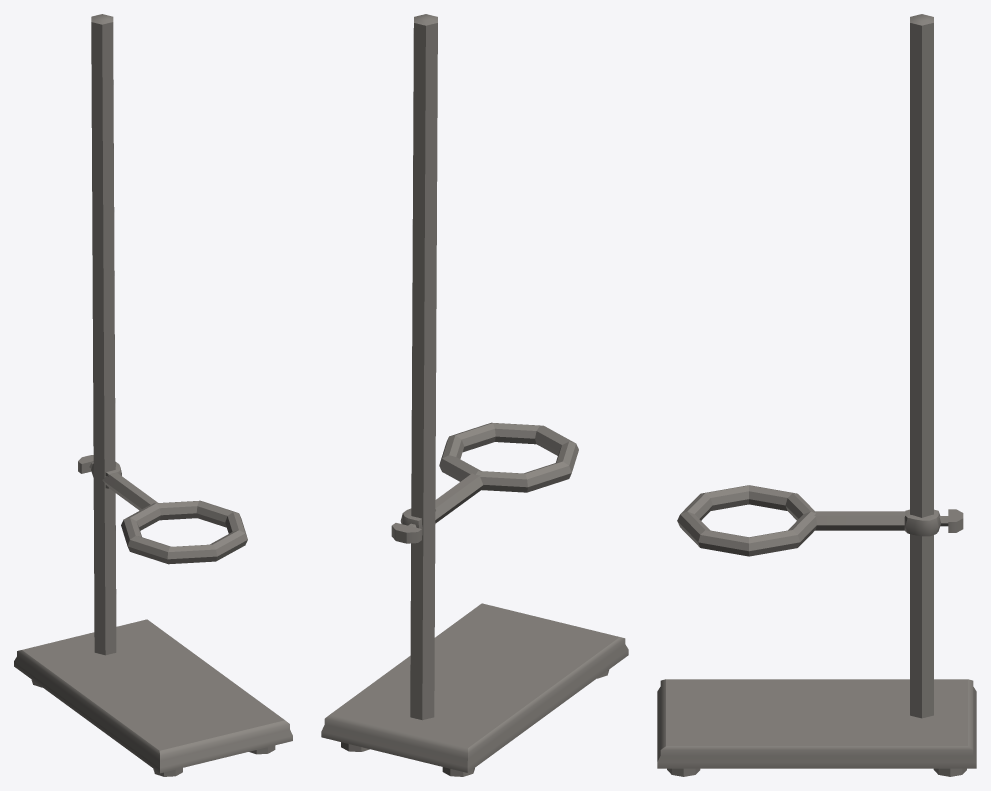
Rendered from ringStand.glb.
3 renders of one model, left to right at view 1: azimuth 30°, elevation 25°; view 2: azimuth 150°, elevation 25°; view 3: azimuth 270°, elevation 25°, orthographic. The views are drawn at different scales.
Visible parts, largest first — view 1: ringStand pCube7, ringStand pCylinder21, ringStand pTorus1, ringStand pCylinder22; view 2: ringStand pCube7, ringStand pCylinder21, ringStand pTorus1, ringStand pCylinder22, ringStand pCube8; view 3: ringStand pCube7, ringStand pCylinder21, ringStand pTorus1, ringStand pCylinder22, ringStand pCube9.
Boxes of the visible parts, x1,y1,x2,y2 form: ringStand pCube7: [14, 619, 292, 773]; ringStand pCylinder21: [91, 14, 116, 655]; ringStand pTorus1: [121, 500, 247, 564]; ringStand pCylinder22: [89, 462, 157, 510]; ringStand pCube7: [321, 603, 628, 772]; ringStand pCylinder21: [410, 14, 437, 720]; ringStand pTorus1: [439, 422, 578, 492]; ringStand pCylinder22: [408, 473, 483, 527]; ringStand pCube8: [391, 523, 421, 543]; ringStand pCube7: [657, 679, 976, 768]; ringStand pCylinder21: [910, 14, 933, 718]; ringStand pTorus1: [677, 485, 816, 556]; ringStand pCylinder22: [814, 511, 948, 530]; ringStand pCube9: [904, 509, 940, 536].
Bounding box in the file's own units: 0.00402 × 0.0192 × 0.00765.
Materials: 1 (1 with a texture image).
